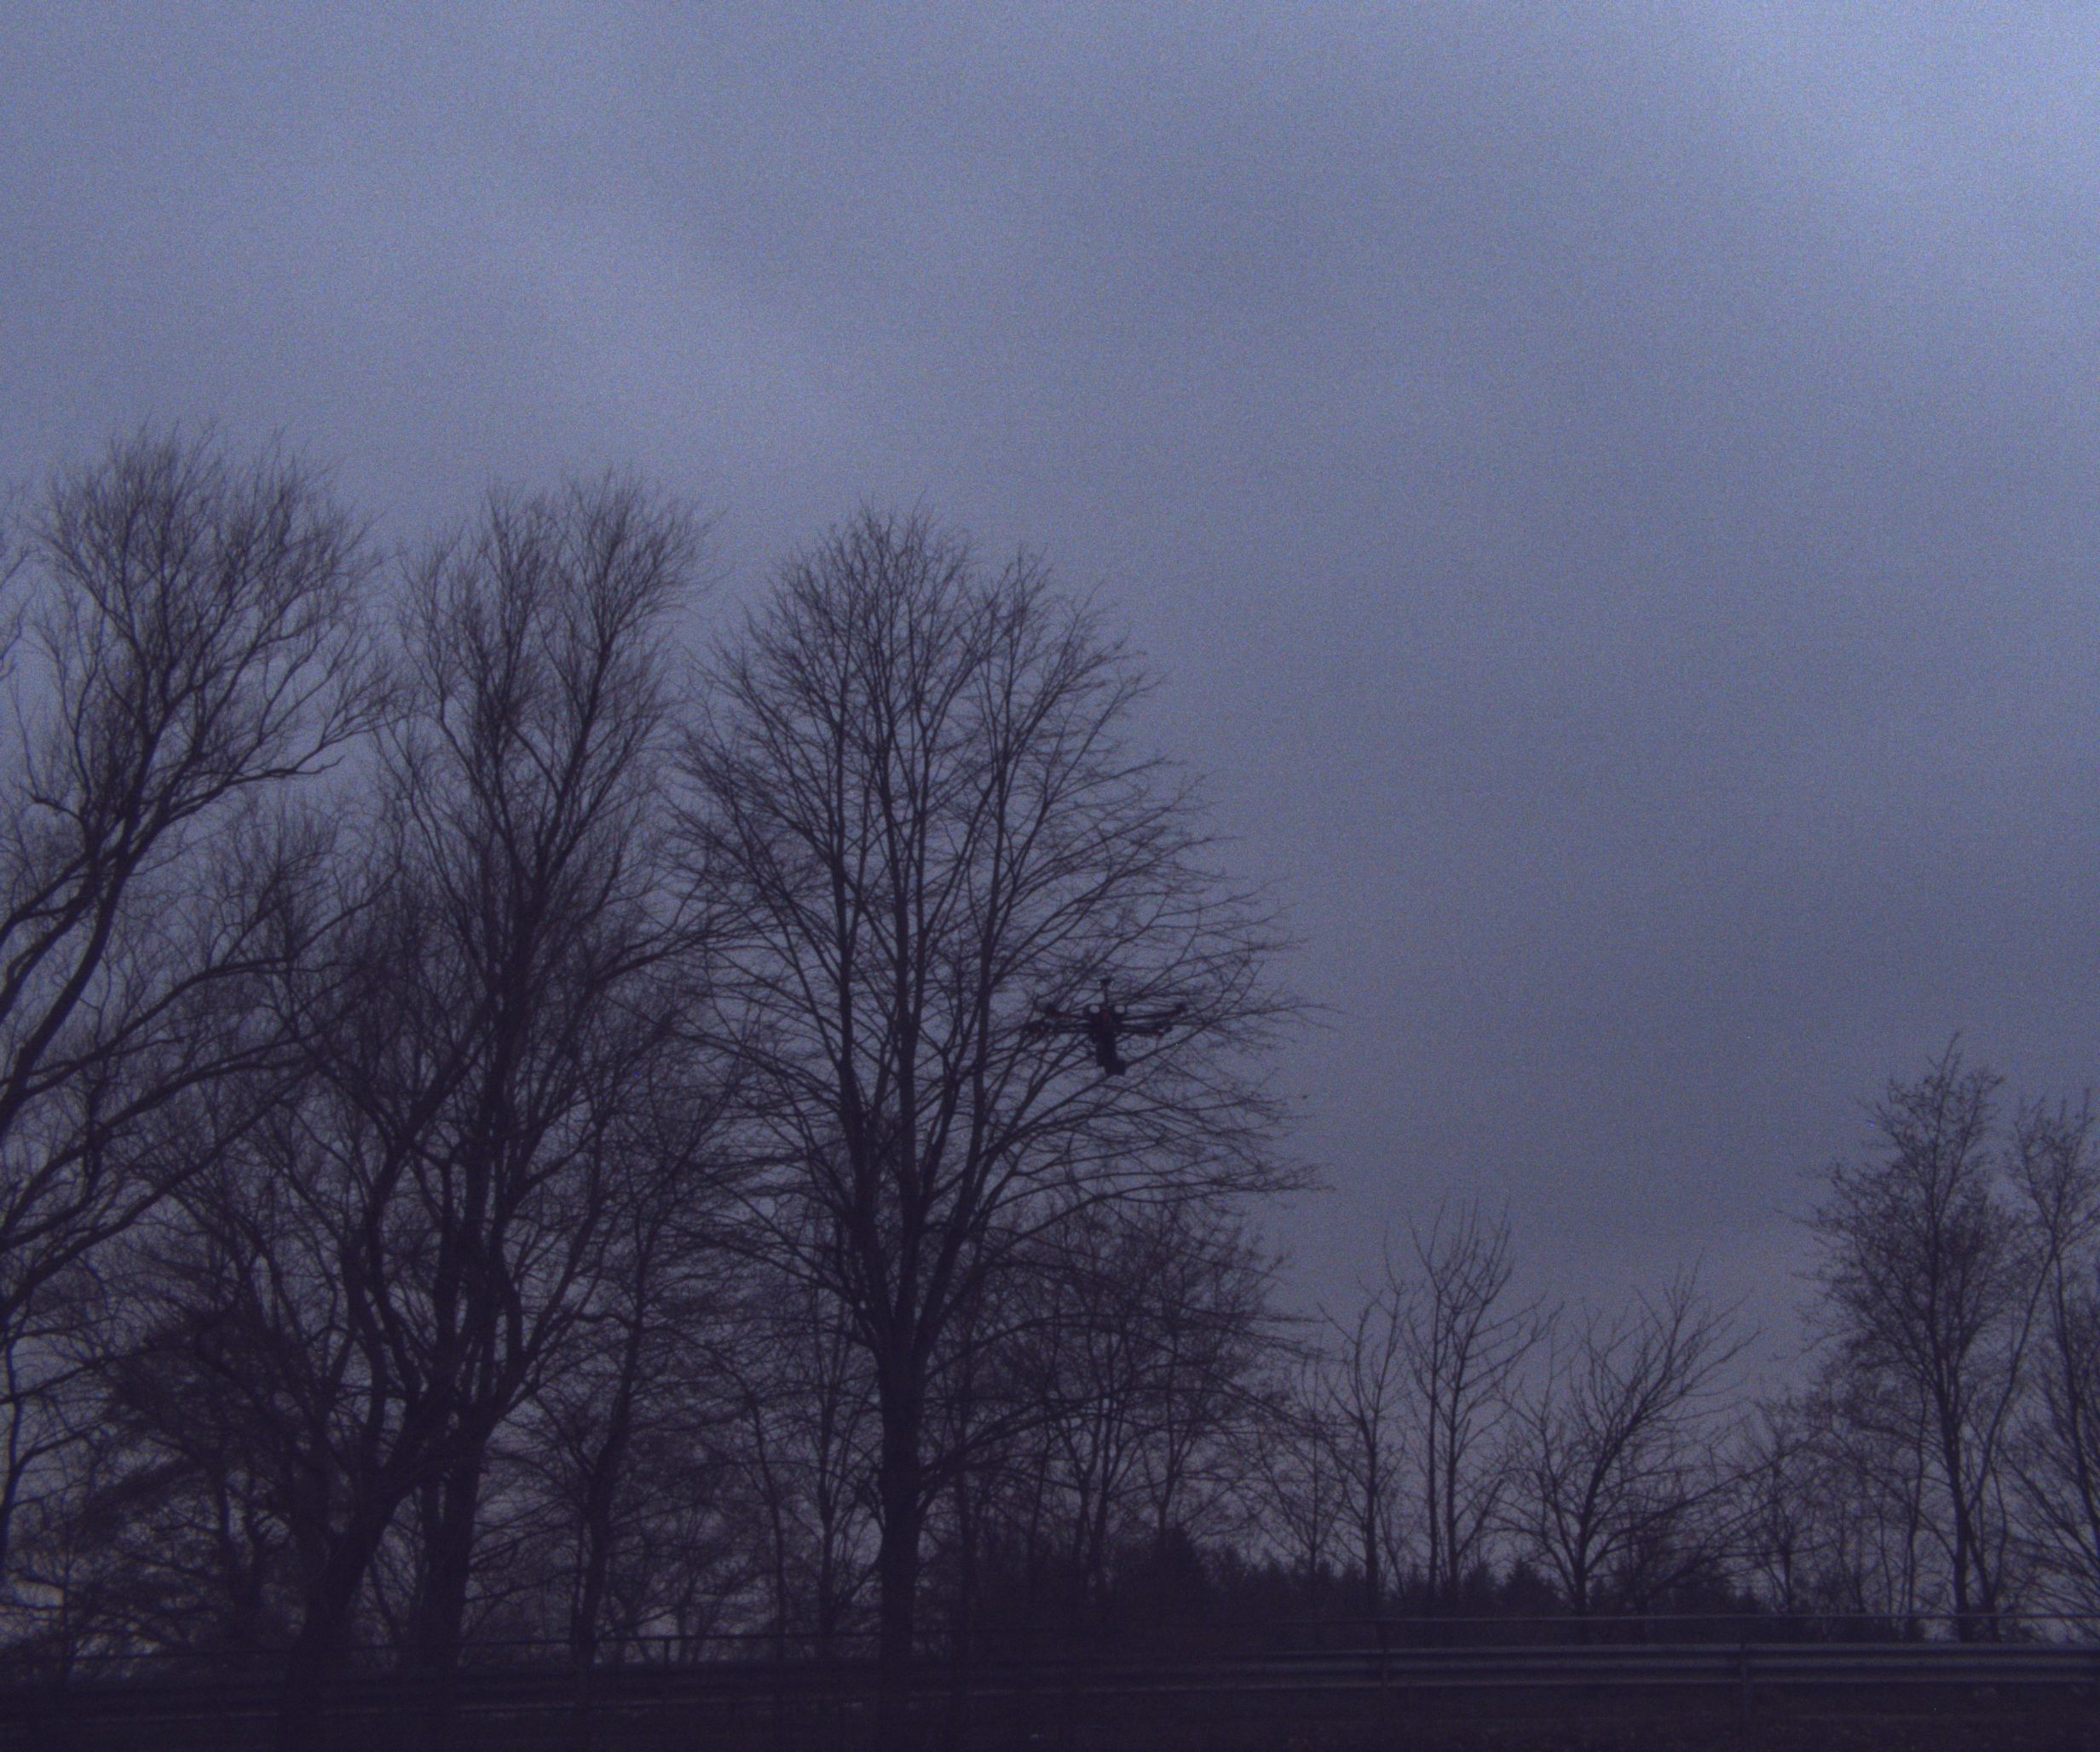Drohne: (982, 962, 1223, 1077)
